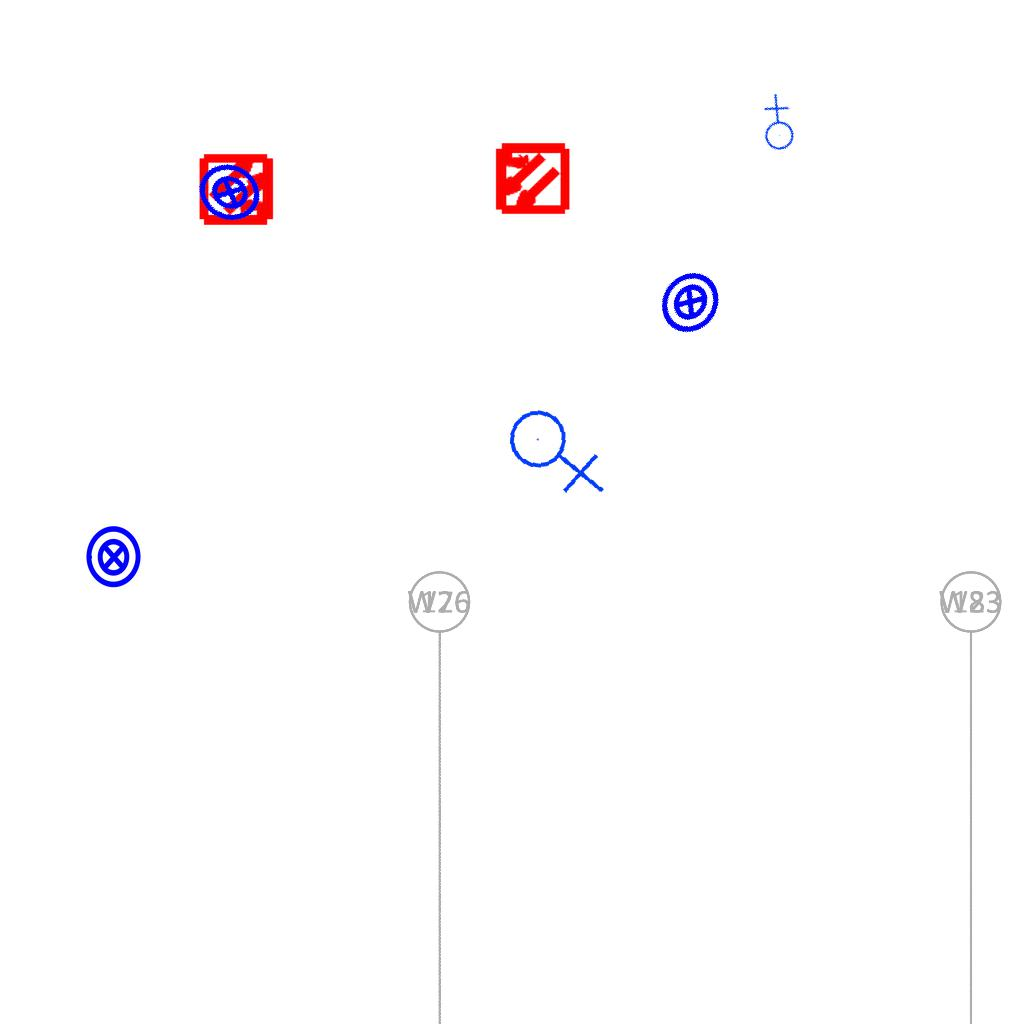Elektroanschluss_allgemein_230V_Geraeteanschlussdose_230V: (503, 394, 610, 504), (742, 91, 811, 160)
OT_Multisensormelder_(Kombination_RMO_WMD): (474, 122, 587, 235), (182, 133, 295, 246)
Taster_beleuchtet: (644, 256, 736, 348), (186, 148, 274, 236), (81, 524, 147, 590)
